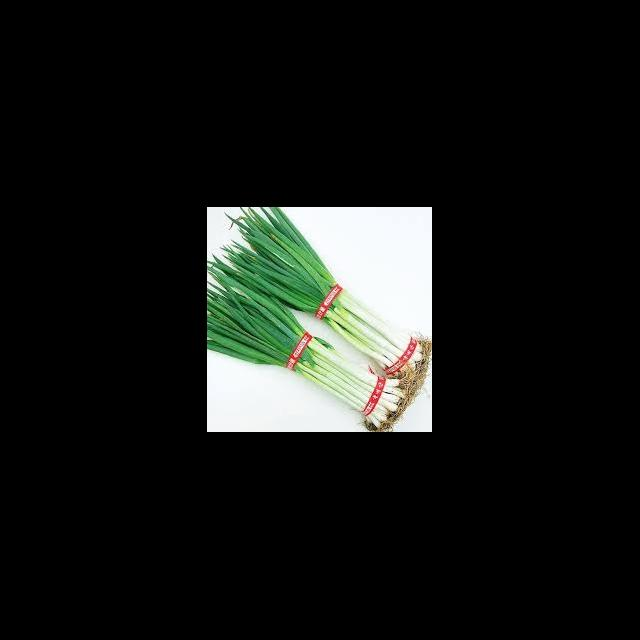green_onion: (211, 208, 431, 386), (208, 261, 418, 432)
